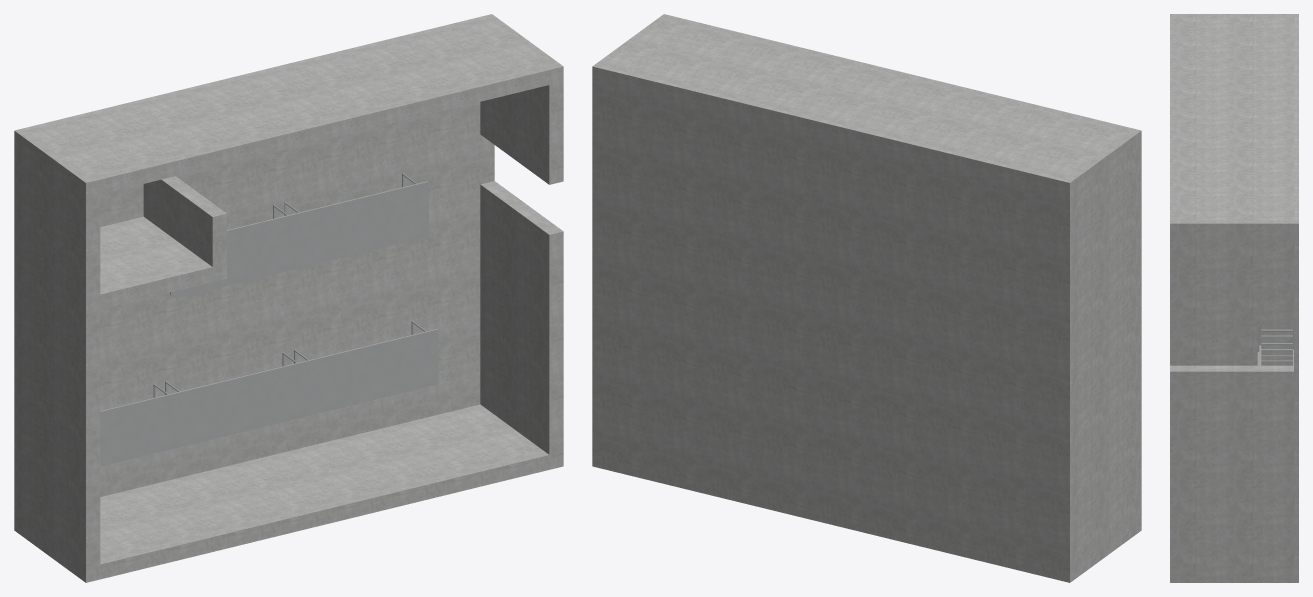
The model's file is prova-visor-mwvqpsi2.glb.
3 views of the same model, side by side, from view 1: azimuth 30°, elevation 25°; view 2: azimuth 150°, elevation 25°; view 3: azimuth 270°, elevation 25° (orthographic). The views are drawn at different scales.
Parts seen in each view (by area): view 1: Body2, Body1, 40x40marco_largo_(1)_(1), 40x40marco_largo_(1), 40x40marco_largo_(1)_(1)_(1), 40x40marco_largo, 40x40marco_largo_(1)_(2); view 2: Body1, Body2; view 3: Body2, Body1, 40x40marco_largo_(1), 40x40marco_largo_(1)_(1)_(1).
Boxes of the visible parts, <box> form: Body2: <box>17,16,563,582</box>; Body1: <box>14,14,494,531</box>; 40x40marco_largo_(1)_(1): <box>294,321,438,415</box>; 40x40marco_largo_(1): <box>165,352,309,447</box>; 40x40marco_largo_(1)_(1)_(1): <box>284,173,428,267</box>; 40x40marco_largo: <box>100,384,180,466</box>; 40x40marco_largo_(1)_(2): <box>170,204,299,298</box>; Body1: <box>592,64,1072,582</box>; Body2: <box>595,14,1141,580</box>; Body2: <box>1170,14,1293,582</box>; Body1: <box>1294,14,1298,582</box>; 40x40marco_largo_(1): <box>1257,335,1293,365</box>; 40x40marco_largo_(1)_(1)_(1): <box>1257,327,1293,351</box>.
Bounding box in the file's own units: 10 × 8 × 2.6.
3 materials, 3 textured.
